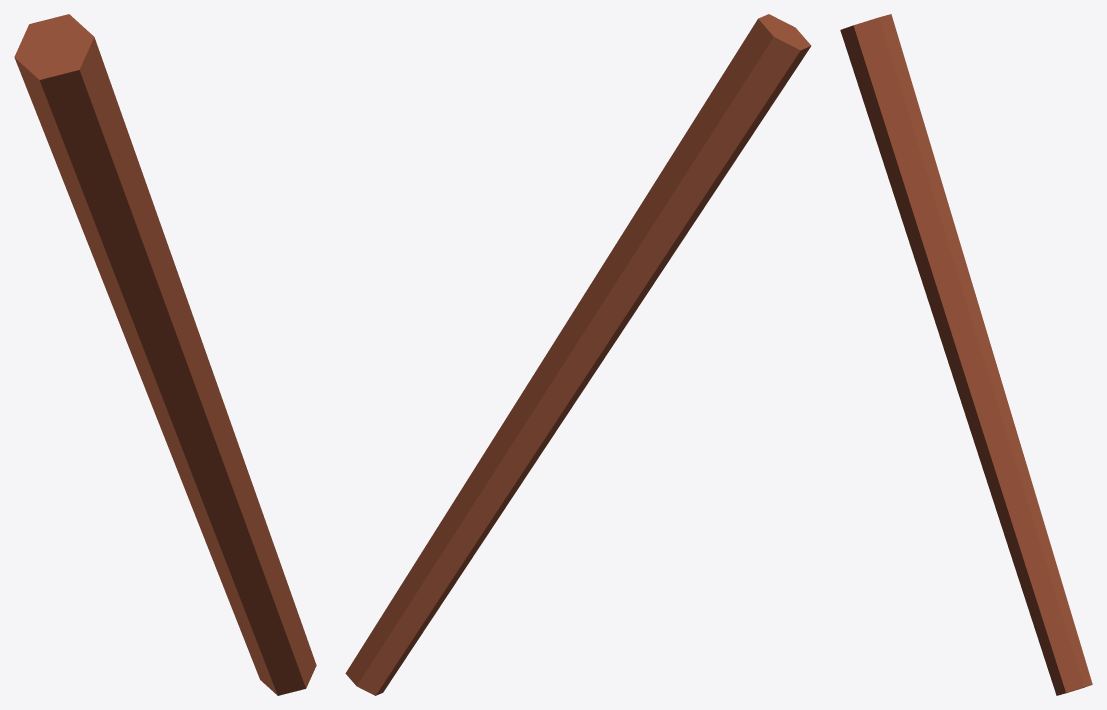
Rendered from rm2_leg_rl_tibia.obj.
3 renders of one model, left to right at view 1: azimuth 30°, elevation 25°; view 2: azimuth 150°, elevation 25°; view 3: azimuth 270°, elevation 25°, orthographic. The views are drawn at different scales.
Visible parts, largest first — view 1: rm2_leg_rl_tibia; view 2: rm2_leg_rl_tibia; view 3: rm2_leg_rl_tibia.
Boxes of the visible parts, bbox=[...] form: rm2_leg_rl_tibia: bbox=[14, 14, 316, 695]; rm2_leg_rl_tibia: bbox=[345, 14, 811, 695]; rm2_leg_rl_tibia: bbox=[840, 14, 1092, 695].
Bounding box in the file's own units: 0.4236 × 0.79 × 0.32.
